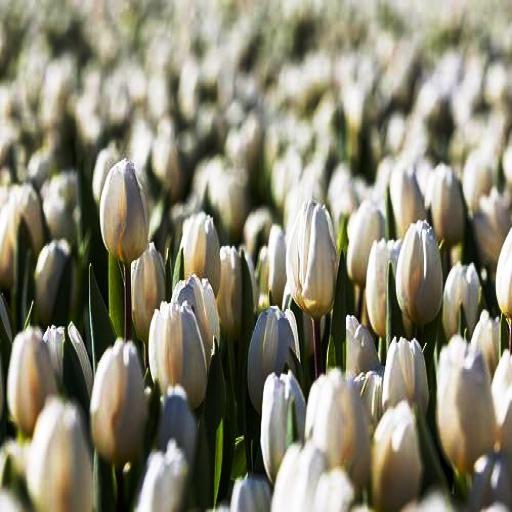tulip: (89, 338, 151, 460), (148, 294, 211, 409), (307, 369, 366, 484), (284, 198, 341, 314), (396, 215, 444, 326), (100, 160, 150, 261), (5, 334, 58, 424), (380, 337, 431, 421), (178, 211, 220, 301)
